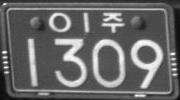0: (92, 38, 125, 88), (48, 11, 72, 32)
1: (18, 38, 48, 87), (76, 12, 96, 32)
3: (54, 38, 88, 88)
9: (130, 38, 163, 89)
주: (101, 11, 125, 33)
